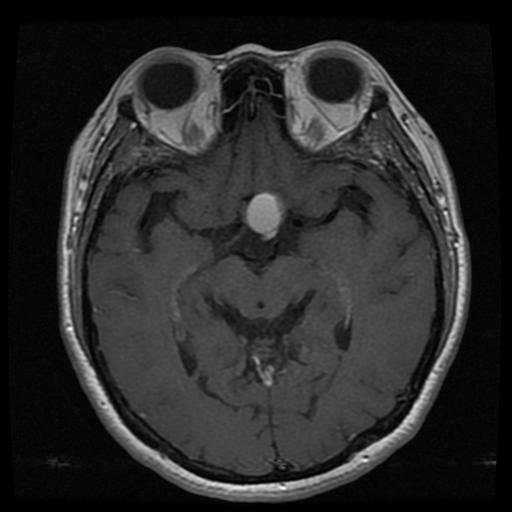Tumour-Pituitary: (241, 195, 282, 238)
